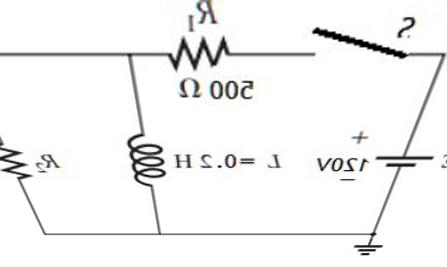inductor: (128, 119, 162, 189)
